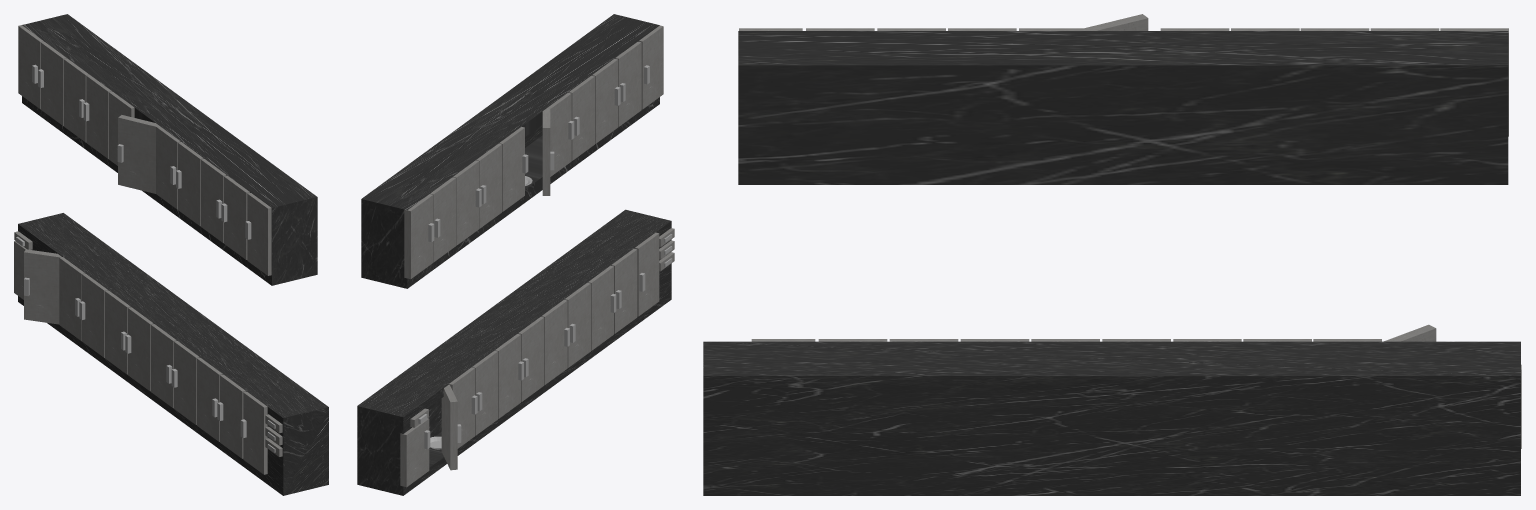
File: kitchen desk counter.fbx
The picture shows the model from 3 angles, left to right: view 1: azimuth 30°, elevation 25°; view 2: azimuth 150°, elevation 25°; view 3: azimuth 270°, elevation 25°; orthographic projection. The views are drawn at different scales.
Parts seen in each view (by area): view 1: kitchen_counter_at_the_bottom, top_desk_with_1_plate; view 2: kitchen_counter_at_the_bottom, top_desk_with_1_plate; view 3: kitchen_counter_at_the_bottom, top_desk_with_1_plate.
Boxes of the visible parts, x1,y1,x2,y2 form: kitchen_counter_at_the_bottom: (14,213,328,495); top_desk_with_1_plate: (18,14,317,285); kitchen_counter_at_the_bottom: (357,209,674,495); top_desk_with_1_plate: (361,14,663,288); kitchen_counter_at_the_bottom: (703,324,1521,495); top_desk_with_1_plate: (738,14,1508,184).
Bounding box in the file's own units: 2450 × 9179 × 15798.
